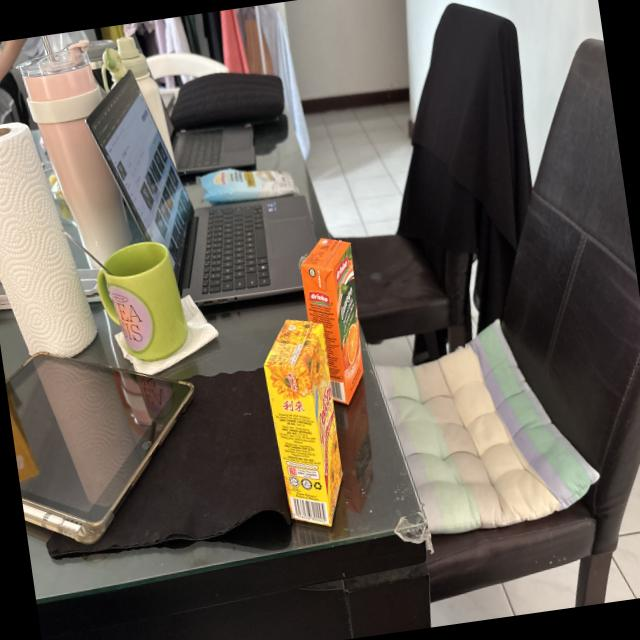drink_carton: (248, 302, 357, 538), (288, 225, 382, 415)
